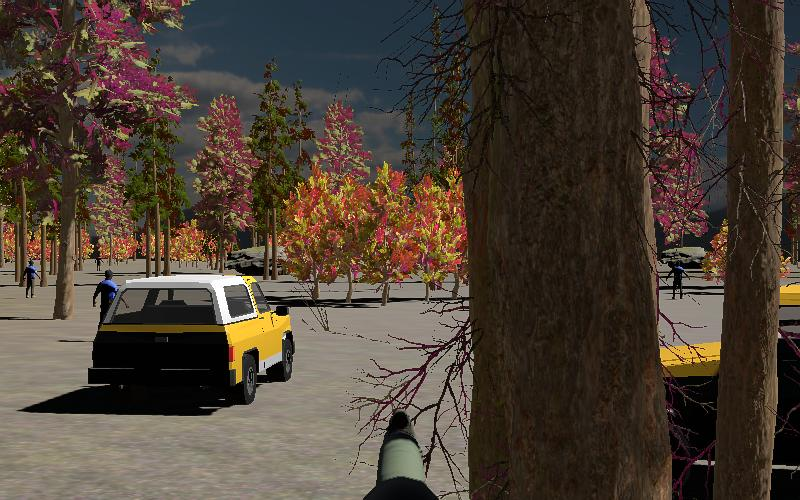Human: (90, 267, 123, 329), (667, 260, 691, 301), (21, 258, 41, 301)
car: (87, 270, 298, 405)
